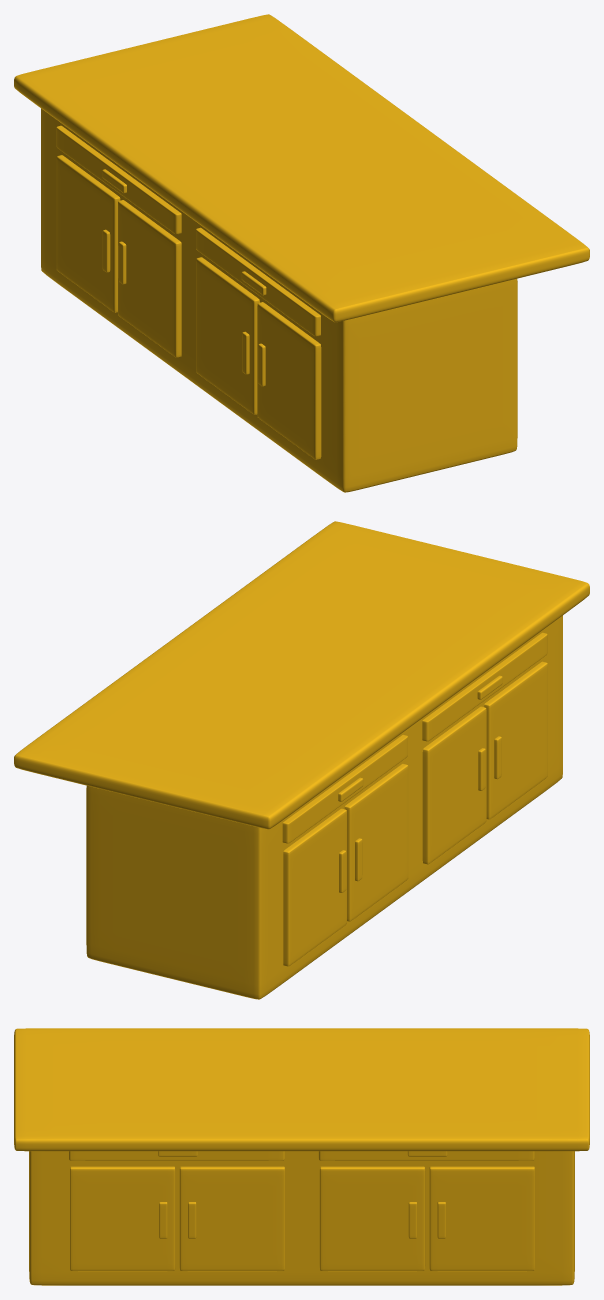
File: Counter.glb
3 renders of one model, top to bottom at view 1: azimuth 30°, elevation 25°; view 2: azimuth 150°, elevation 25°; view 3: azimuth 270°, elevation 25°, orthographic. The views are drawn at different scales.
Visible parts, largest first — view 1: pCube2, pCube1, pCube6, pCube4, pCube8, pCube3, pCube5, pCube7; view 2: pCube2, pCube1, pCube8, pCube3, pCube4, pCube6, pCube7, pCube5; view 3: pCube2, pCube1, pCube25, pCube17, pCube19, pCube18, pCube21, pCube20.
Boxes of the visible parts, bbox=[...] form: pCube2: bbox=[14, 14, 589, 322]; pCube1: bbox=[41, 108, 517, 492]; pCube6: bbox=[257, 302, 321, 459]; pCube4: bbox=[118, 200, 181, 357]; pCube8: bbox=[196, 257, 259, 414]; pCube3: bbox=[56, 155, 120, 312]; pCube5: bbox=[56, 125, 181, 234]; pCube7: bbox=[196, 227, 320, 336]; pCube2: bbox=[14, 521, 589, 829]; pCube1: bbox=[86, 615, 562, 999]; pCube8: bbox=[422, 706, 486, 864]; pCube3: bbox=[283, 808, 346, 966]; pCube4: bbox=[344, 764, 408, 921]; pCube6: bbox=[484, 661, 547, 819]; pCube7: bbox=[422, 632, 547, 741]; pCube5: bbox=[282, 734, 407, 843]; pCube2: bbox=[14, 1028, 589, 1151]; pCube1: bbox=[29, 1151, 574, 1285]; pCube25: bbox=[319, 1166, 425, 1271]; pCube17: bbox=[429, 1166, 534, 1271]; pCube19: bbox=[70, 1166, 175, 1271]; pCube18: bbox=[179, 1166, 284, 1271]; pCube21: bbox=[318, 1151, 534, 1160]; pCube20: bbox=[69, 1151, 284, 1160].
Size of the model in its own units: 3.77 by 2.74 by 8.14.
